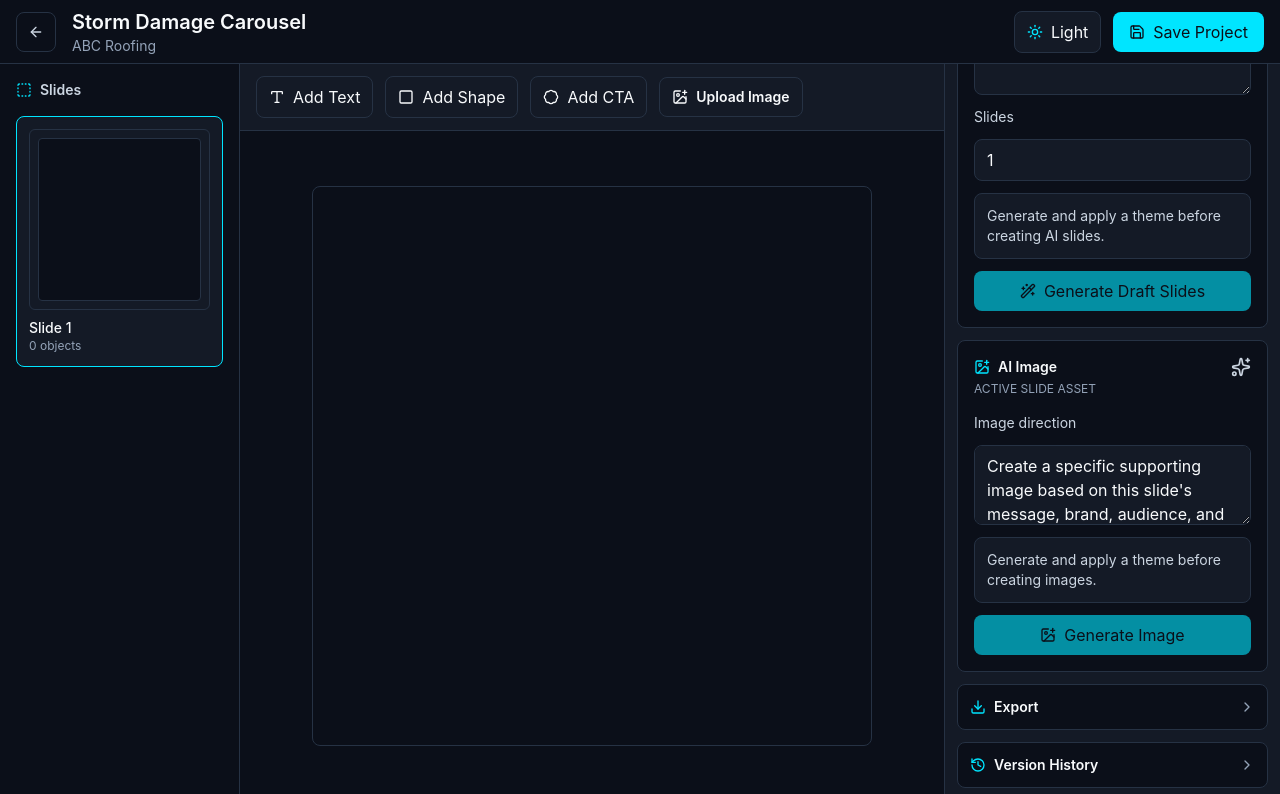
Test: ProjectEditorShell › restores a version into the visible editor canvas
(page scrolled)
Click the button "Version History" at (1046, 764), box [970,755,1255,775]
(page scrolled)
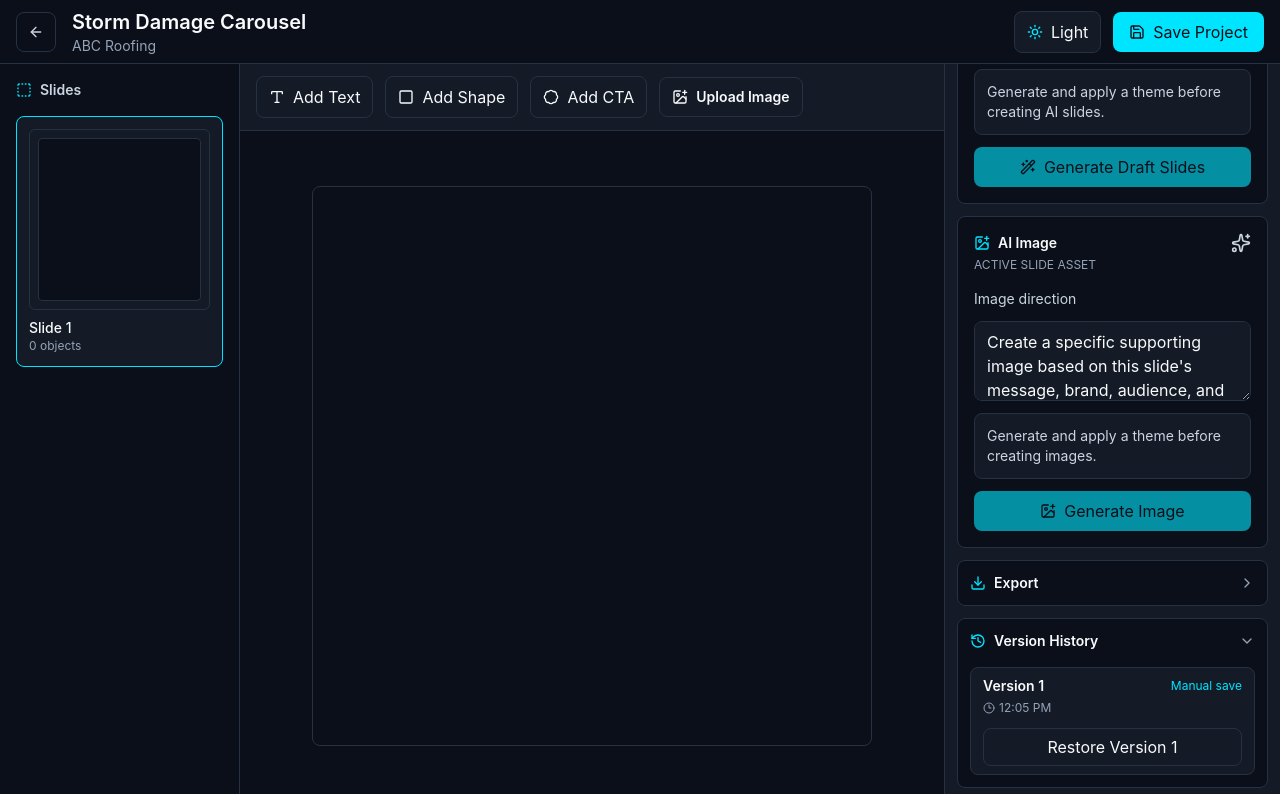
Click the button "Restore Version 1" at (1112, 747), box [983,728,1242,766]
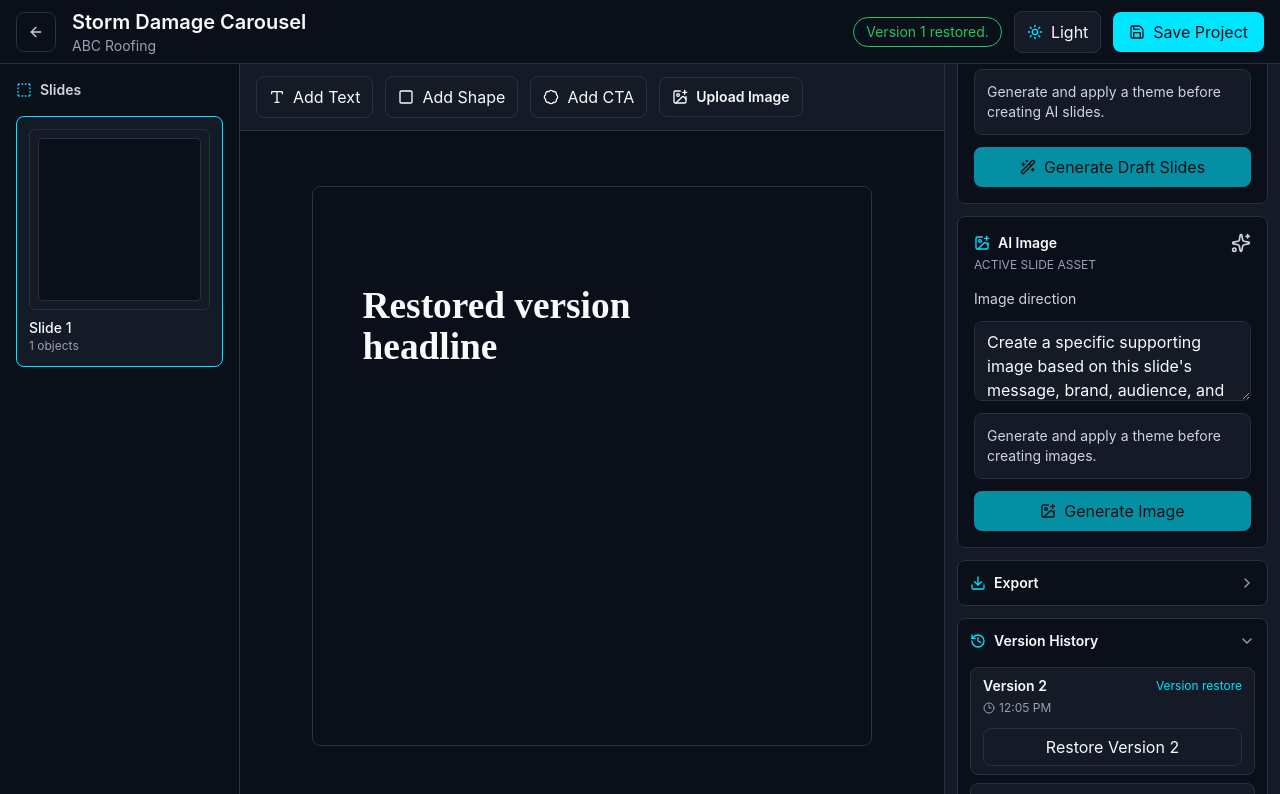
Expected: the button "Restored version headline" is shown, [363,280,735,372]
Expected: the text "Version 1 restored." is shown, [853,16,1002,46]
Expected: the text "Version restore" is shown, [1156,678,1242,694]
